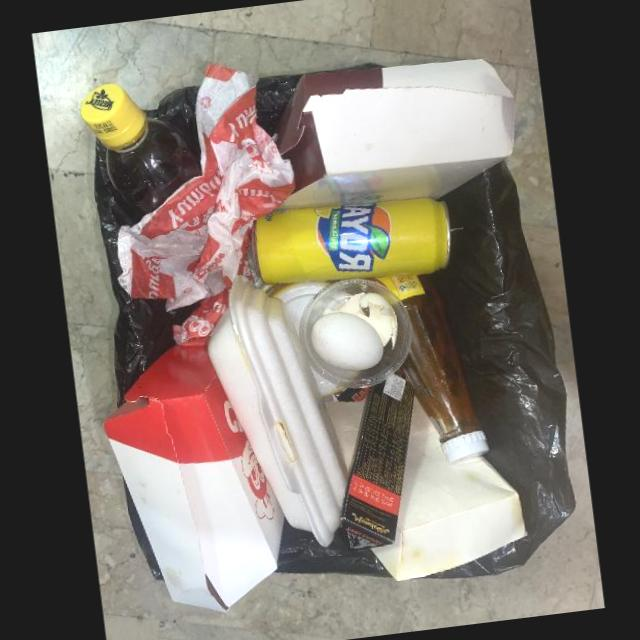carton: (101, 334, 284, 614), (275, 56, 513, 209), (333, 366, 414, 554)
chai_nhua: (80, 83, 203, 218)
chai_thuy_tinh: (370, 393, 526, 582), (374, 270, 491, 466)
giay: (116, 67, 297, 342)
nhom: (248, 194, 451, 284)
vo_trung: (311, 314, 384, 369)
xop: (208, 273, 348, 548)
